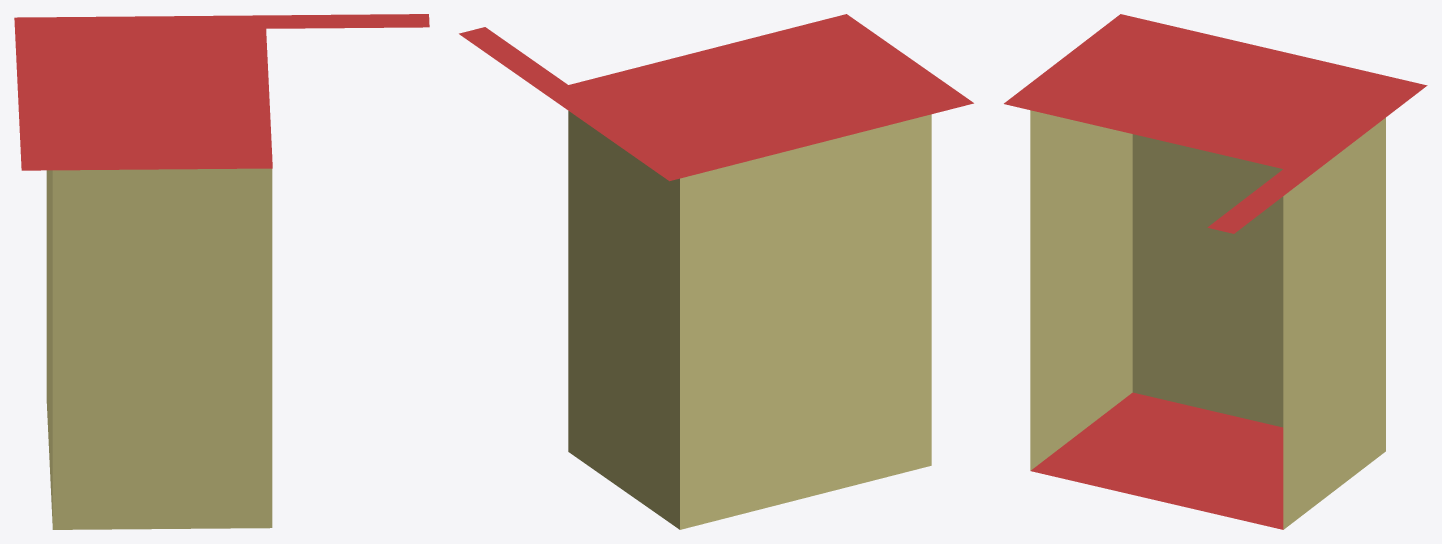
The picture shows the model from 3 angles, left to right: view 1: azimuth 30°, elevation 25°; view 2: azimuth 150°, elevation 25°; view 3: azimuth 270°, elevation 25°; orthographic projection. The views are drawn at different scales.
Bounding box in the file's own units: 8.47 × 6.9 × 6.48.
